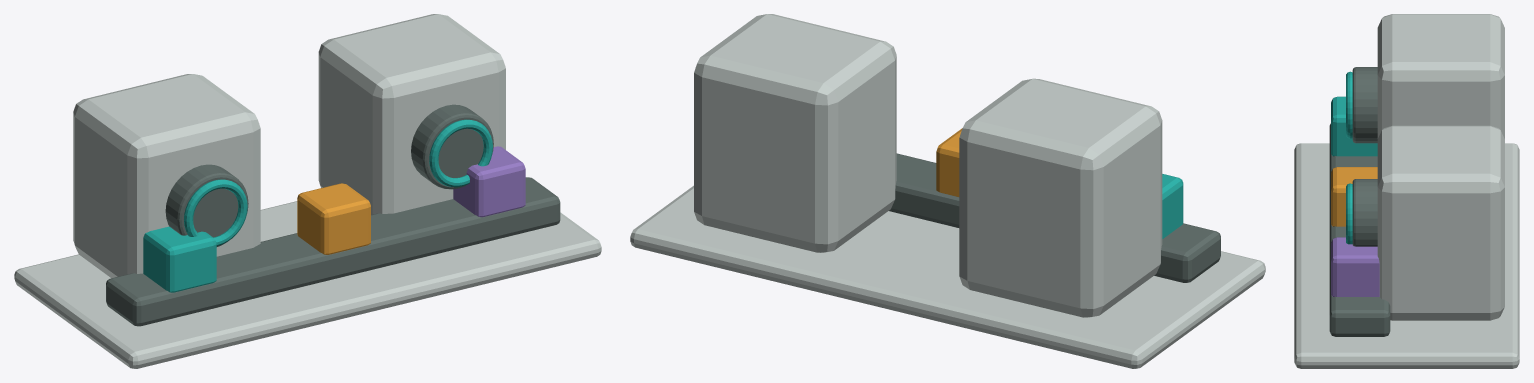
Rendered from flow-shop-machine.glb.
3 views of the same model, side by side, from view 1: azimuth 30°, elevation 25°; view 2: azimuth 150°, elevation 25°; view 3: azimuth 270°, elevation 25° (orthographic). The views are drawn at different scales.
Parts seen in each view (by area): view 1: Flow base, M1, M2, Conveyor, Job 2, Job 1, M2 spindle, M1 spindle, Job 3, M2 signal, M1 signal; view 2: M1, M2, Flow base, Conveyor, Job 2, Job 1; view 3: M2, Flow base, M1, Conveyor, Job 3, M1 spindle, M2 spindle, Job 1, Job 2, M1 signal, M2 signal.
Part boxes in pixels (left/top/right/bottom): Flow base: left=14, top=201, right=601, bottom=368; M1: left=73, top=74, right=260, bottom=278; M2: left=318, top=14, right=505, bottom=214; Conveyor: left=106, top=177, right=560, bottom=326; Job 2: left=297, top=183, right=370, bottom=254; Job 1: left=143, top=226, right=216, bottom=292; M2 spindle: left=411, top=104, right=493, bottom=189; M1 spindle: left=165, top=164, right=248, bottom=246; Job 3: left=453, top=146, right=525, bottom=217; M2 signal: left=429, top=119, right=492, bottom=187; M1 signal: left=184, top=179, right=247, bottom=246; M1: left=959, top=78, right=1162, bottom=317; M2: left=694, top=14, right=896, bottom=252; Flow base: left=630, top=185, right=1265, bottom=368; Conveyor: left=889, top=153, right=1220, bottom=282; Job 2: left=936, top=128, right=962, bottom=196; Job 1: left=1162, top=174, right=1183, bottom=238; M2: left=1377, top=125, right=1504, bottom=320; Flow base: left=1294, top=143, right=1519, bottom=368; M1: left=1377, top=14, right=1504, bottom=138; Conveyor: left=1329, top=123, right=1390, bottom=336; Job 3: left=1331, top=237, right=1379, bottom=296; M1 spindle: left=1352, top=67, right=1377, bottom=143; M2 spindle: left=1352, top=179, right=1377, bottom=246; Job 1: left=1331, top=96, right=1377, bottom=156; Job 2: left=1331, top=167, right=1377, bottom=226; M1 signal: left=1346, top=71, right=1352, bottom=138; M2 signal: left=1346, top=183, right=1352, bottom=244.
Size of the model in its own units: 5.2 by 1.91 by 2.3.
